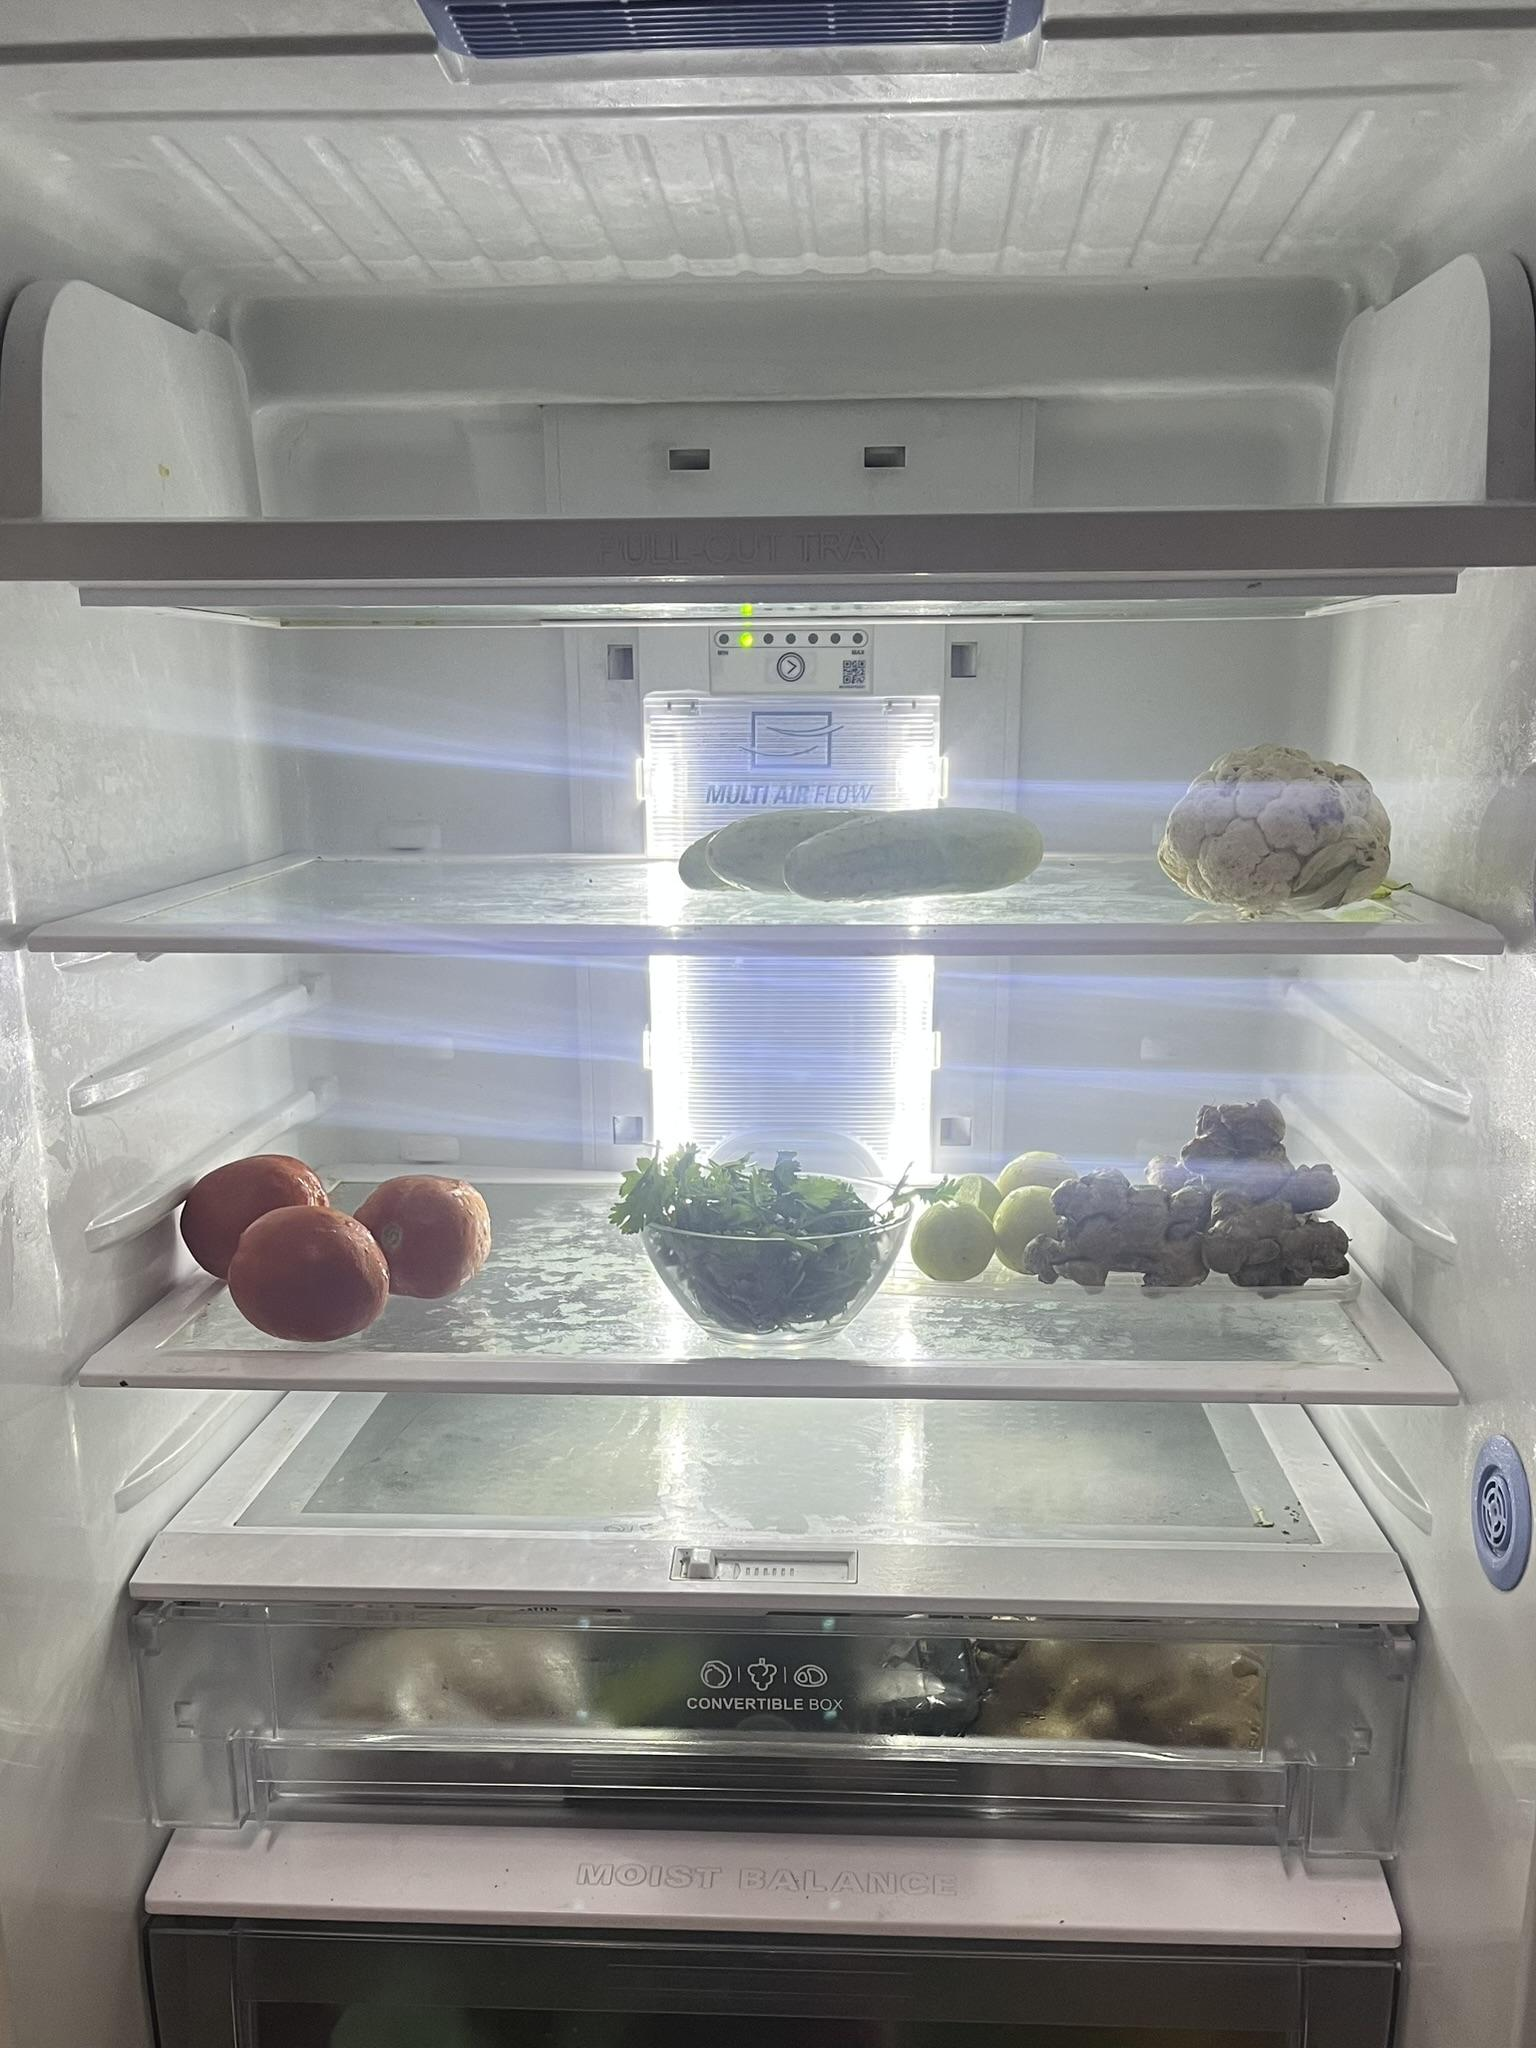cauliflower: (1147, 734, 1410, 916)
coriander: (613, 1147, 920, 1343)
cucumber: (676, 793, 1047, 897)
ginger: (1037, 1103, 1354, 1297)
lemon: (913, 1134, 1091, 1280)
tomato: (173, 1156, 494, 1327)
